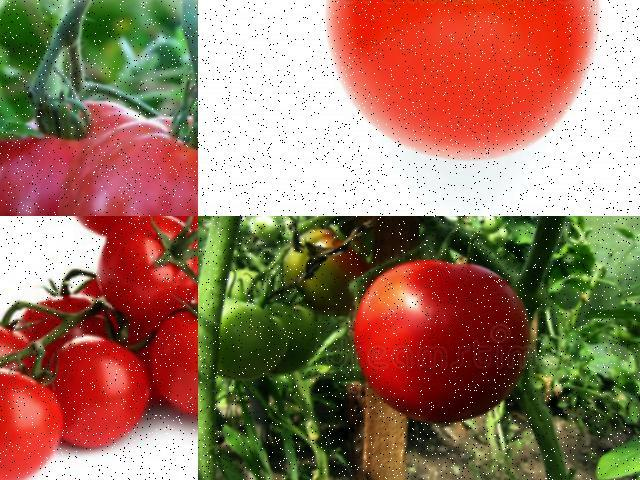tomato: (311, 0, 616, 173), (354, 251, 544, 434), (0, 109, 156, 215), (61, 111, 197, 215), (85, 216, 197, 321), (54, 342, 154, 450), (0, 363, 70, 479), (149, 306, 197, 422), (0, 324, 36, 390), (81, 216, 185, 237)
